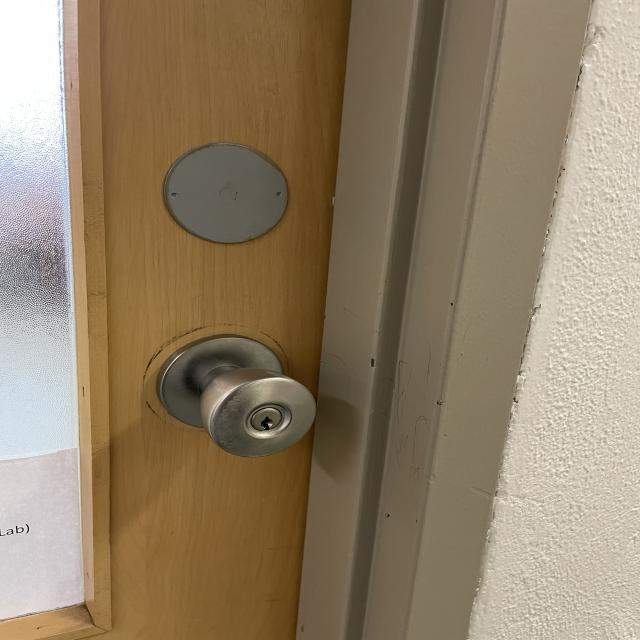door-knob: (158, 335, 315, 458)
